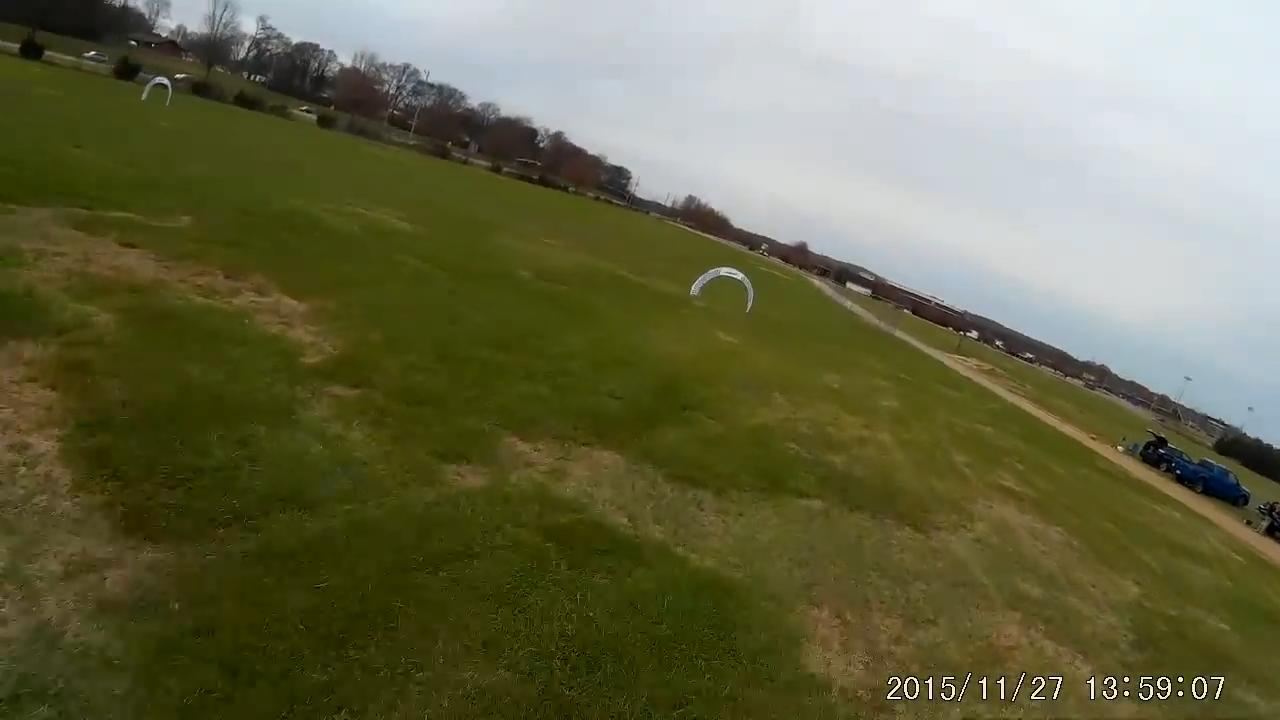gate: (688, 265, 756, 317)
